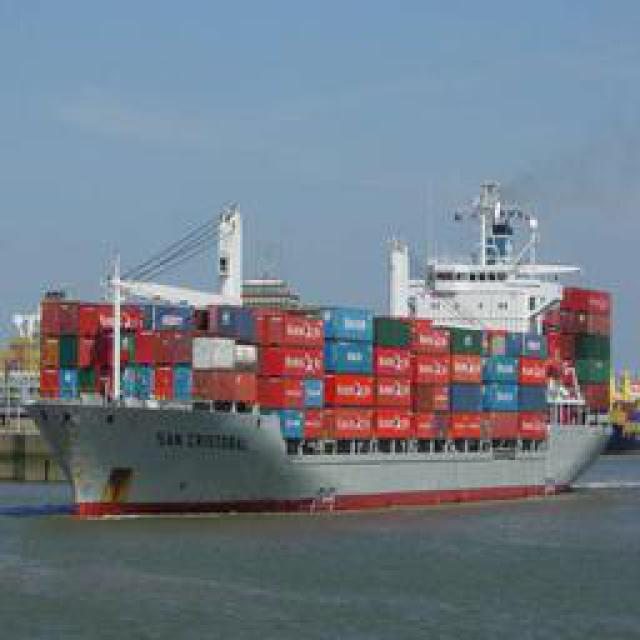Ship: (15, 170, 618, 505)
